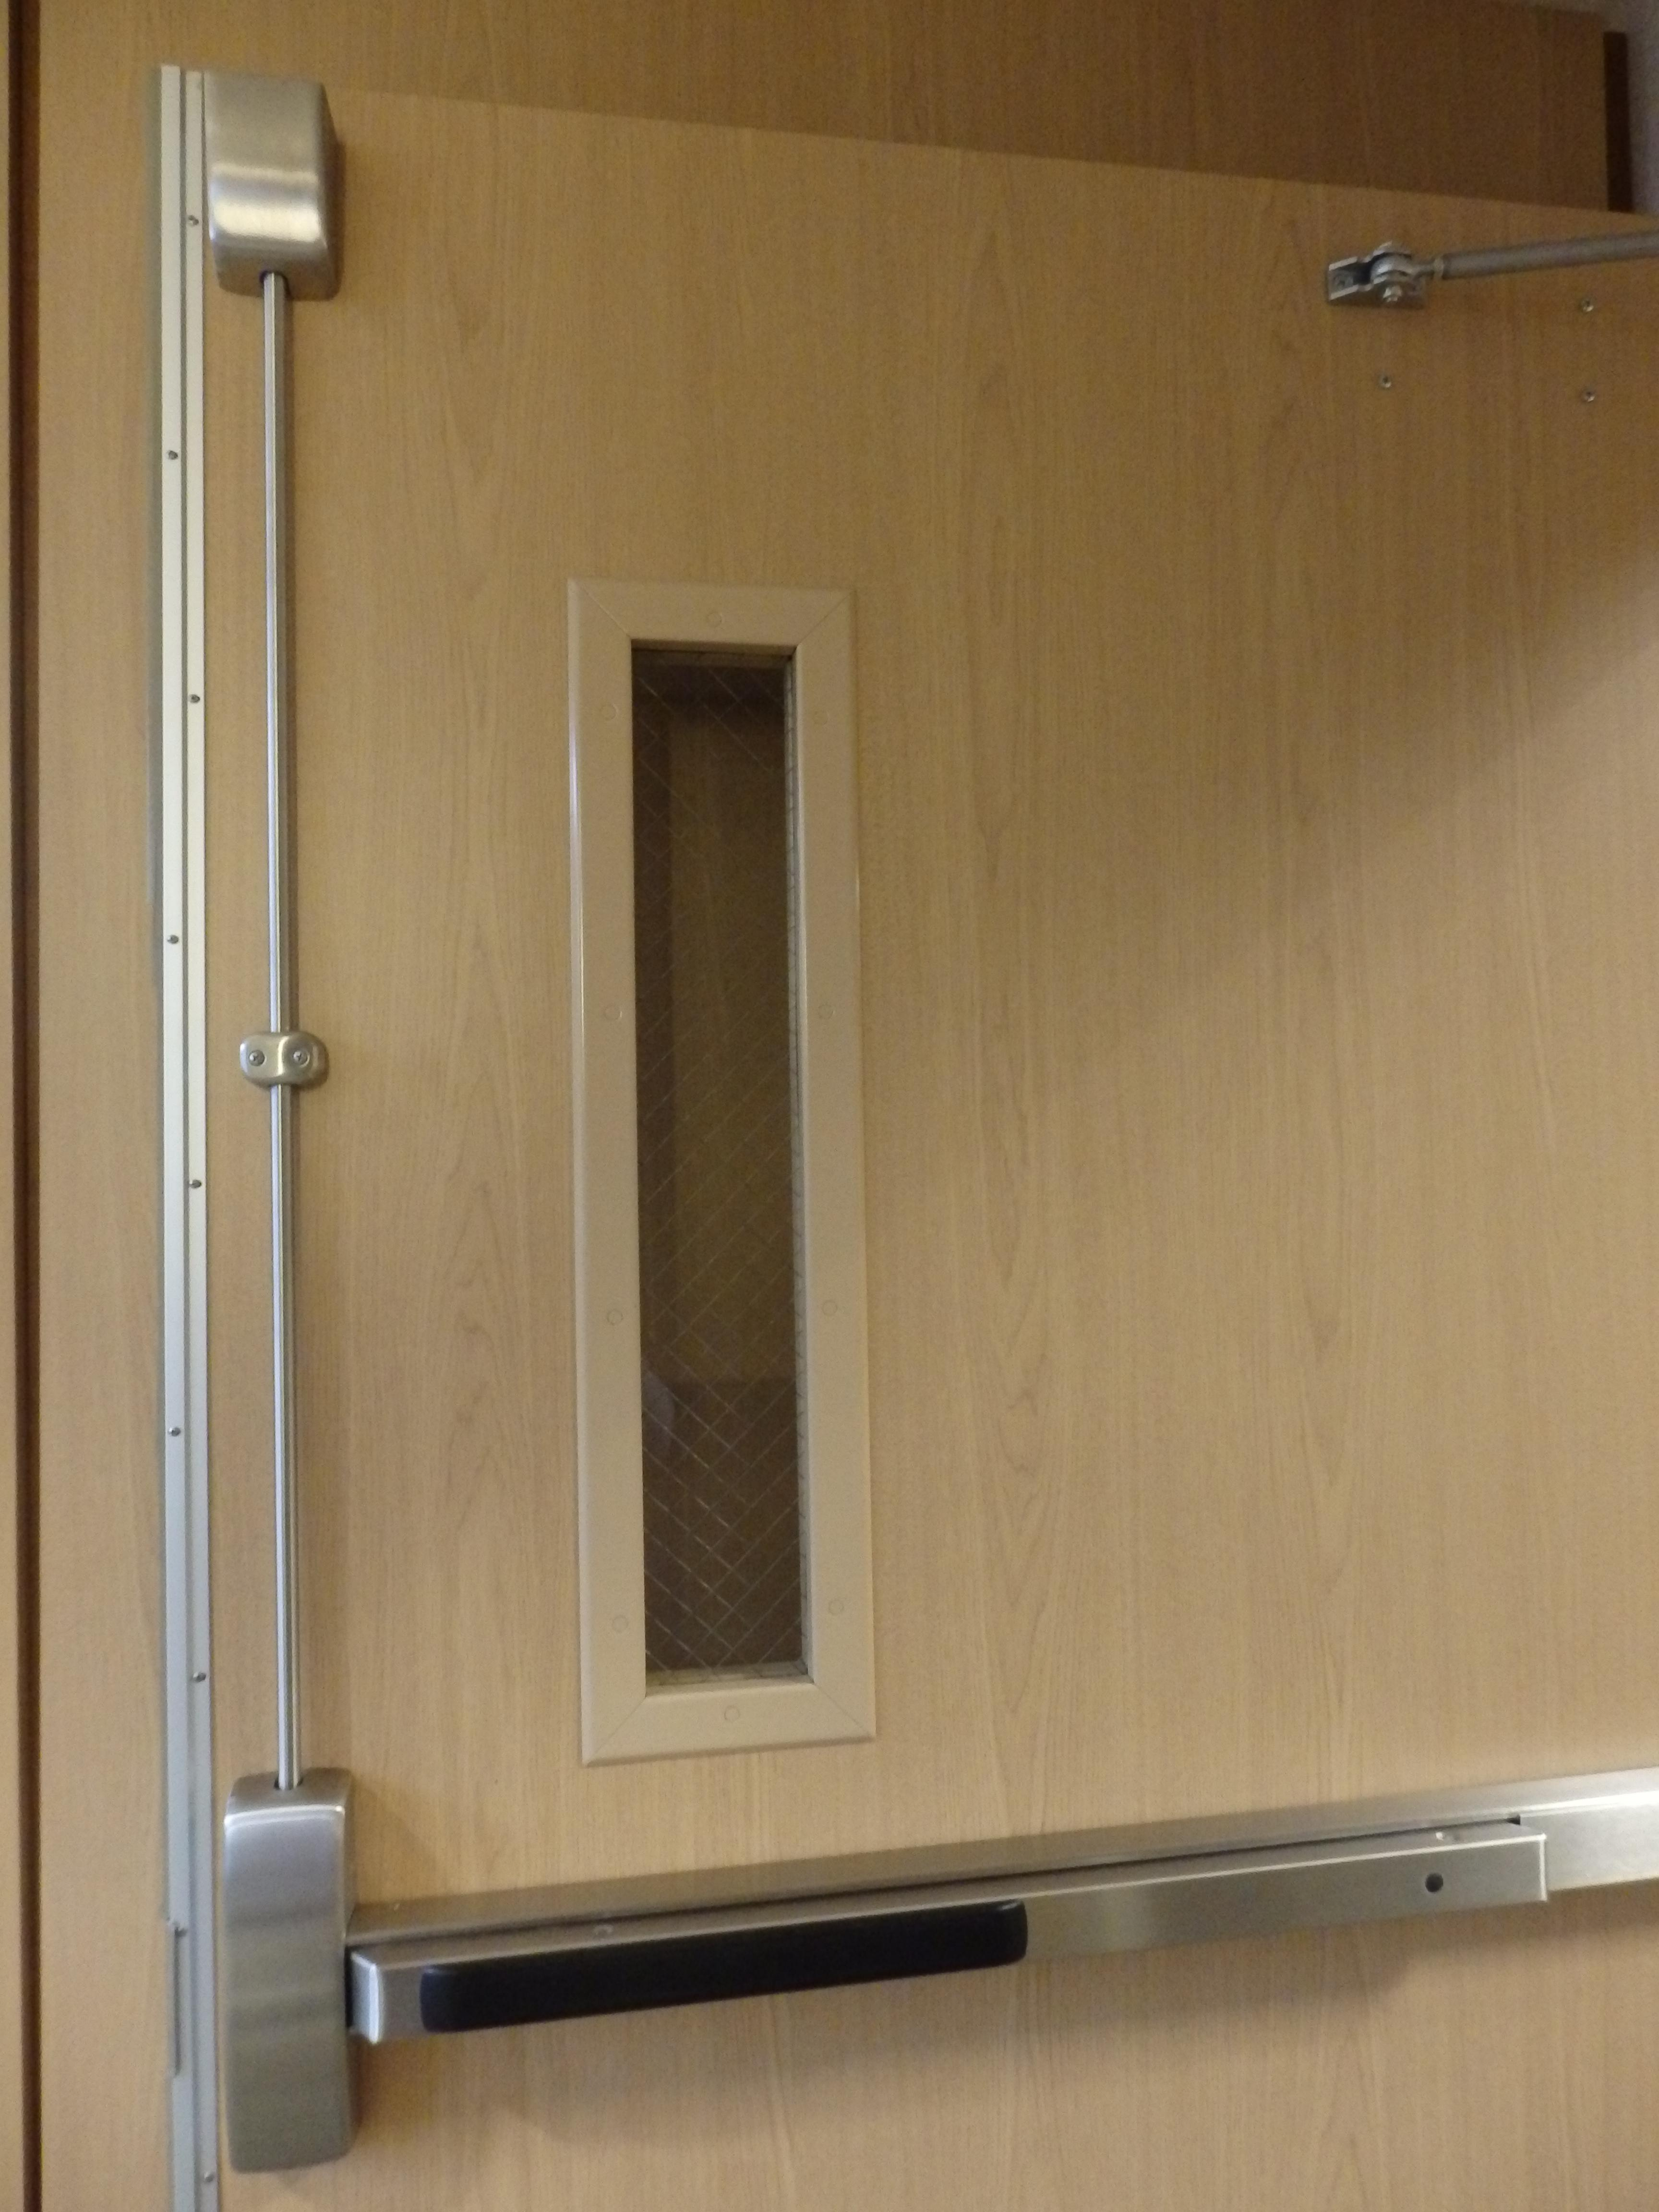door: (173, 68, 1654, 2212)
